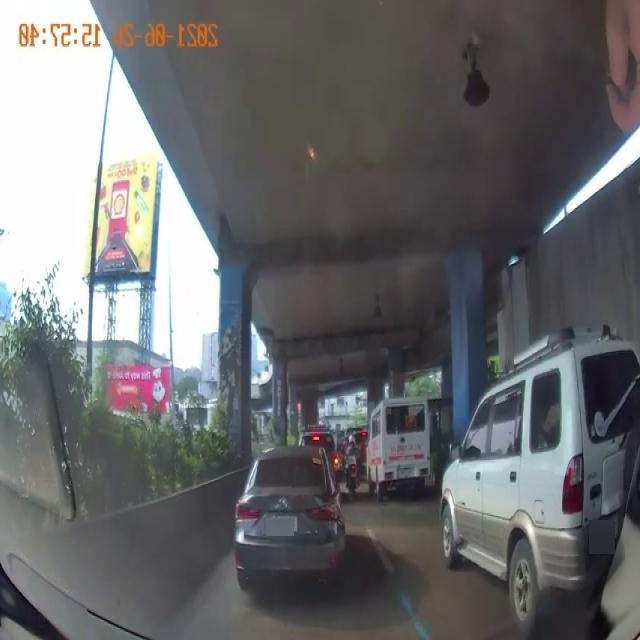car: (434, 331, 640, 624), (362, 395, 429, 509)
motorcycle: (343, 434, 360, 500)
